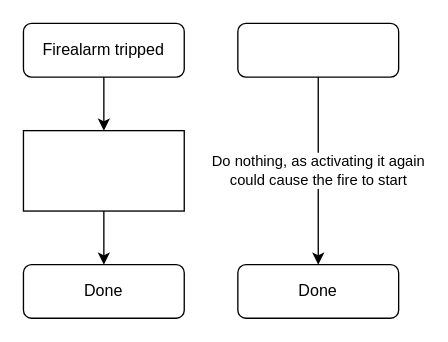
Image size: 448x342. Some labels were removed from this diagram. Each missing label, with the centre of its shape:
Firealarm cleared: [318,49]
Turn 3D Printer Power Plug OFF: [103,170]
